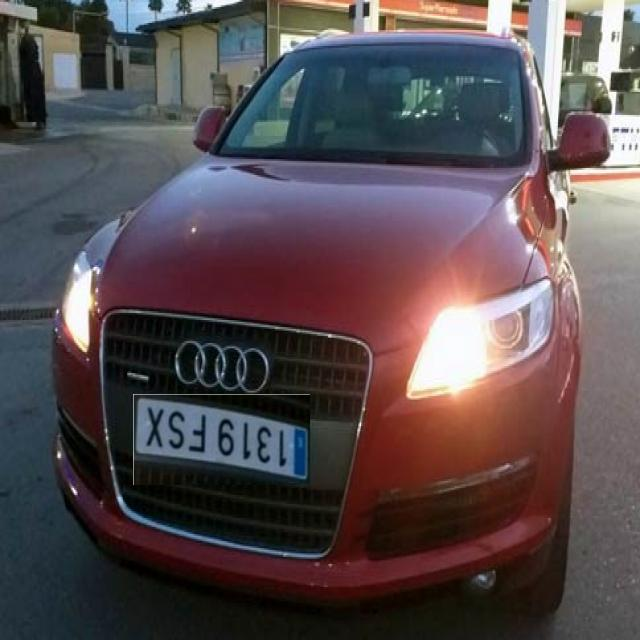License-Plate: (133, 394, 310, 485)
